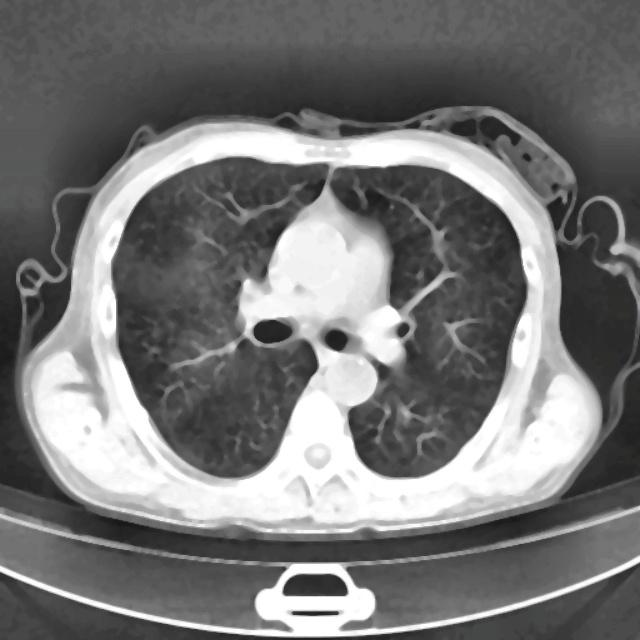covid: (15, 105, 614, 542)
